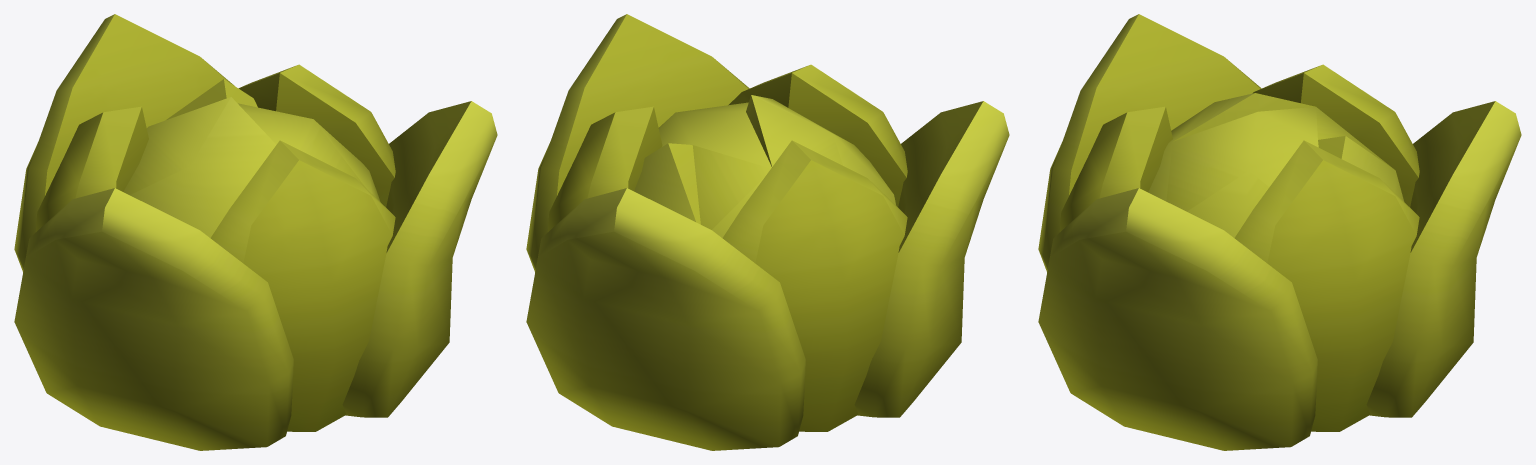
Rendered from kaykit-restaurant-bits-food-ingredient-lettuce.glb.
3 views of the same model, side by side, from view 1: azimuth 30°, elevation 25°; view 2: azimuth 150°, elevation 25°; view 3: azimuth 270°, elevation 25° (orthographic).
Parts seen in each view (by area): view 1: food_ingredient_lettuce; view 2: food_ingredient_lettuce; view 3: food_ingredient_lettuce.
Part boxes in pixels (x1,y1,x2,y2): food_ingredient_lettuce: [14, 14, 497, 450]; food_ingredient_lettuce: [526, 14, 1009, 450]; food_ingredient_lettuce: [1038, 14, 1521, 450].
Bounding box in the file's own units: 1.1 × 0.8205 × 1.13.
1 material, 1 textured.
